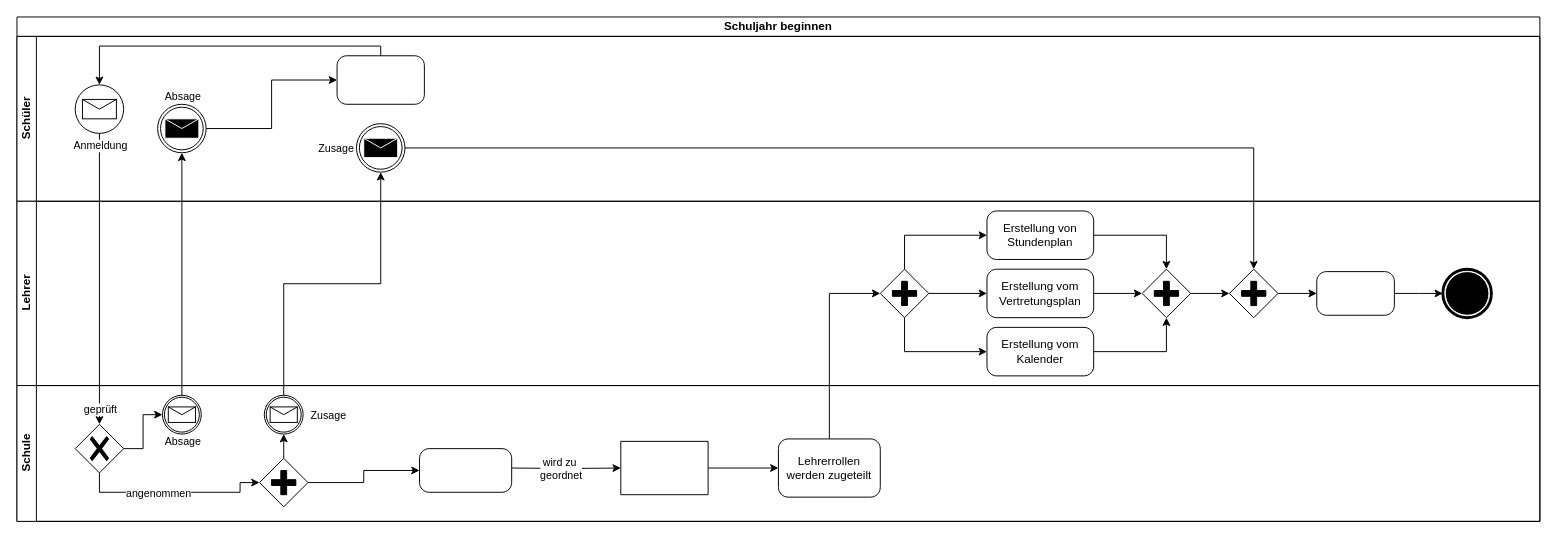
This 1557x538 diagram has some shape labels left out. The centre of each missing label's shape, as x and y in pixels:
"neue Schule suchen" goes at [380,79].
"Schulklassen" goes at [664,467].
"Schülerprofil erstellen" goes at [465,470].
"unterrichten" goes at [1355,293].
